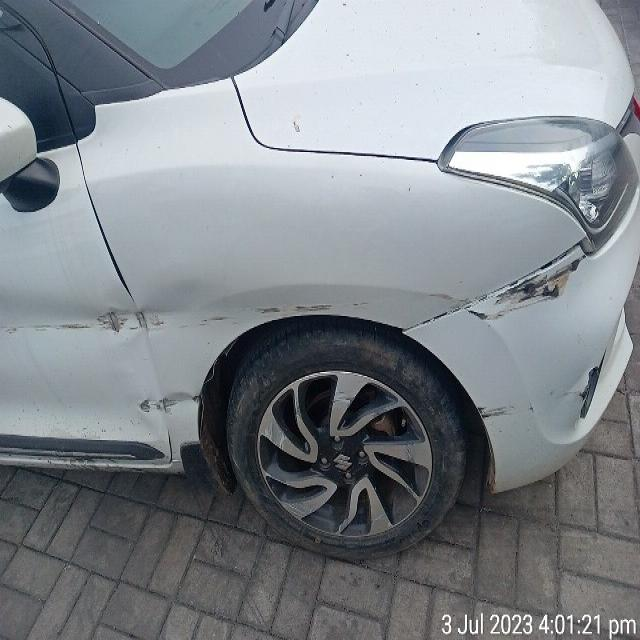damage: (467, 244, 583, 335), (14, 300, 155, 347), (186, 299, 342, 320), (572, 359, 606, 422), (138, 388, 201, 418), (477, 396, 520, 430)
